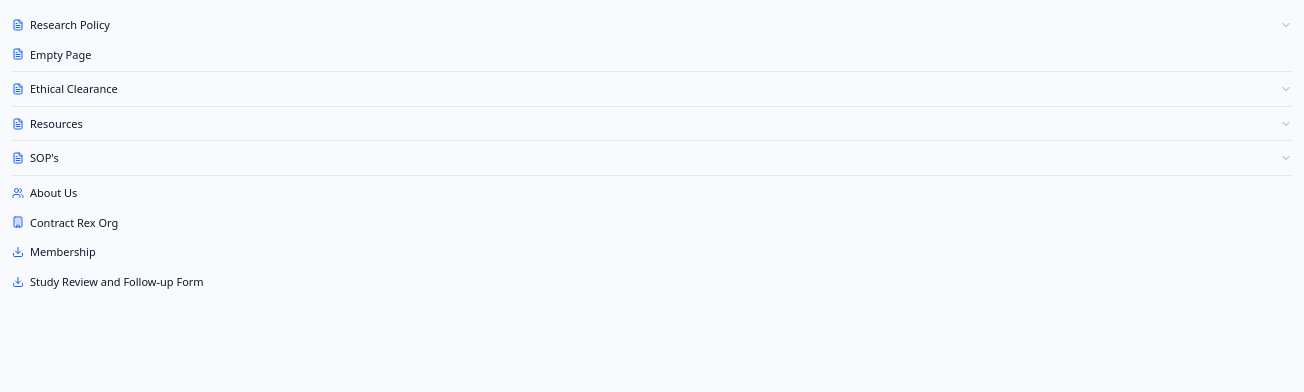
it: PagesDropdown › collapses page node on second click
The width and height of the screenshot is (1304, 392).
Click the button "Research Policy" at (70, 24), box [12,12,1292,38]
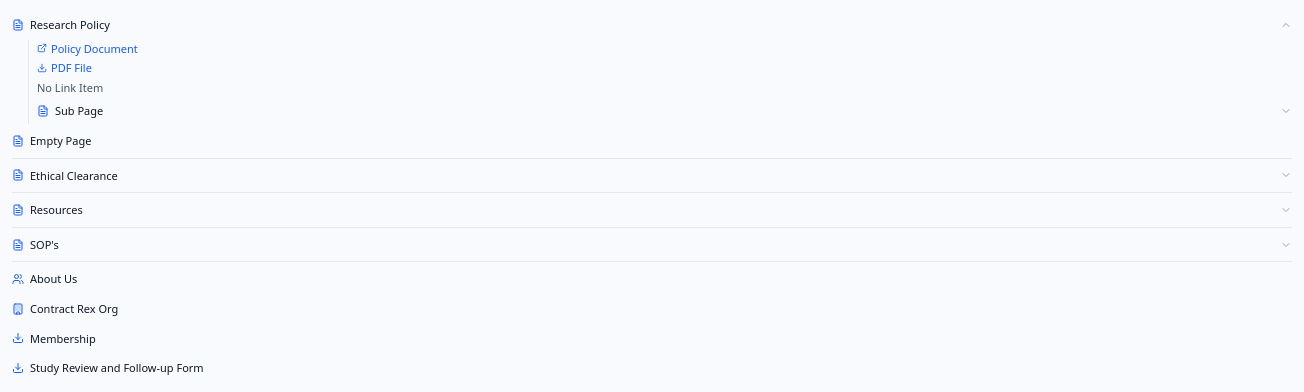
Now the link "Policy Document" is shown, box [37,41,138,56]
Click the button "Research Policy" at (70, 24), box [12,12,1292,38]
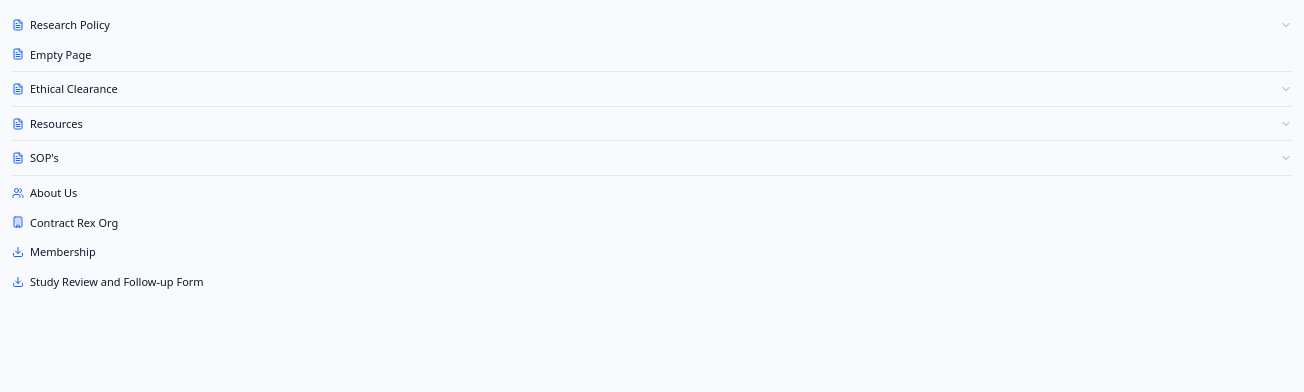
Now the link "Policy Document" is gone
